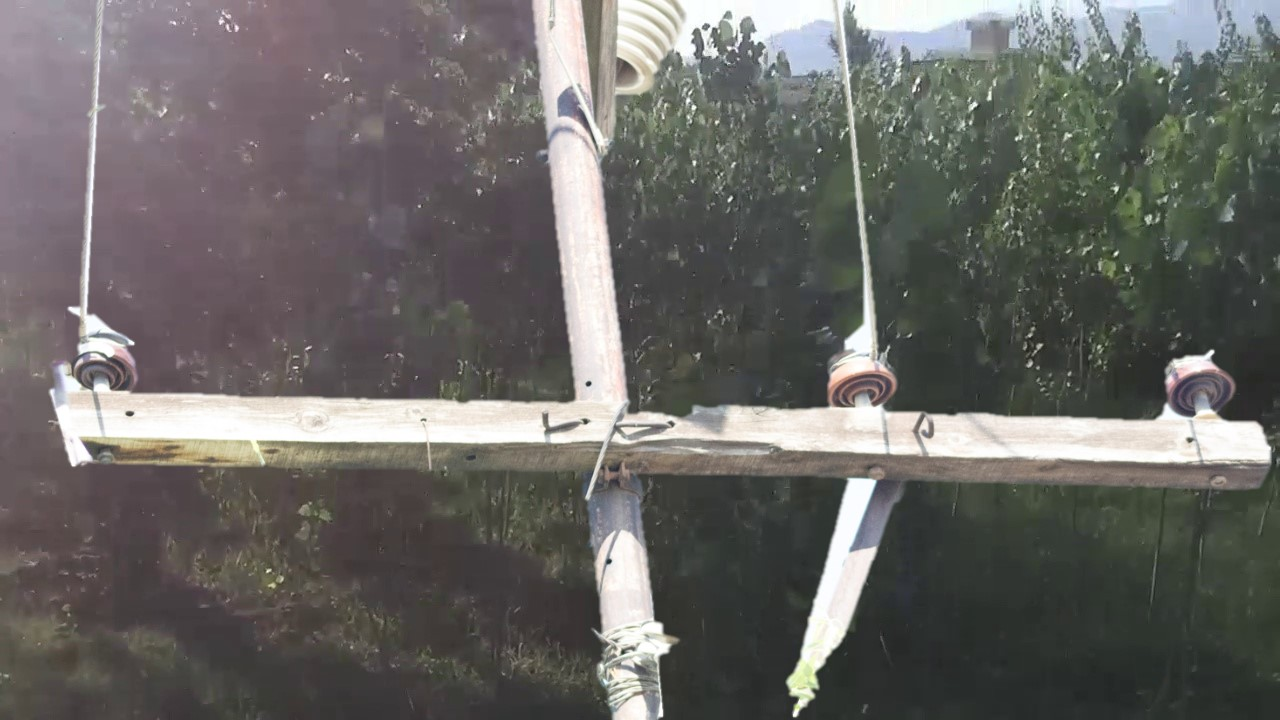defect_pin: (66, 321, 141, 396)
insulator_pin: (1160, 341, 1238, 413), (824, 348, 903, 406)
